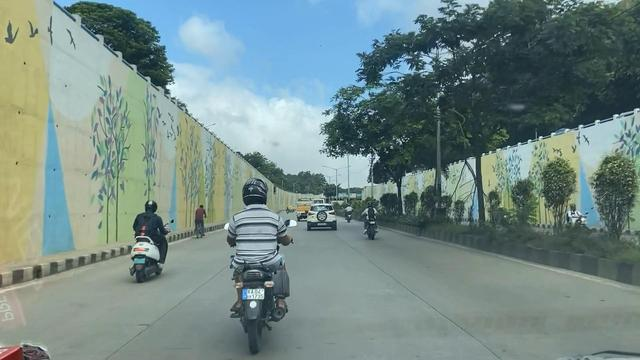LMV: (229, 179, 294, 325), (134, 200, 170, 279), (360, 200, 382, 245), (307, 203, 336, 231)
